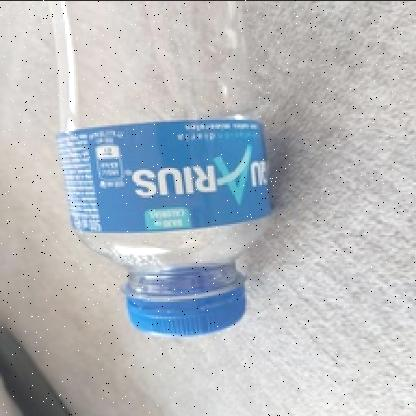Plastic Bottle: (48, 1, 274, 337)
